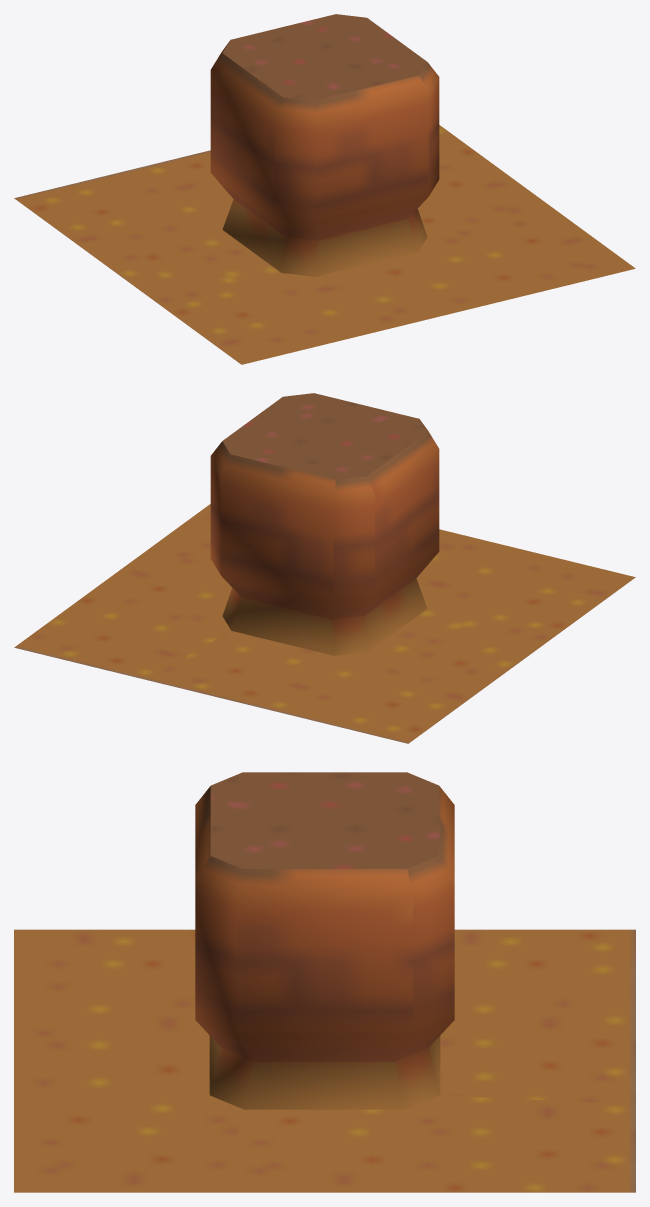
Rendered from canion_column_v01.fbx.
3 views of the same model, one above another, from view 1: azimuth 30°, elevation 25°; view 2: azimuth 150°, elevation 25°; view 3: azimuth 270°, elevation 25° (orthographic). The views are drawn at different scales.
Parts seen in each view (by area): view 1: canion_column_v01; view 2: canion_column_v01; view 3: canion_column_v01.
Boxes of the visible parts, x1=… form: canion_column_v01: x1=14, y1=14, x2=635, y2=364; canion_column_v01: x1=14, y1=393, x2=635, y2=743; canion_column_v01: x1=14, y1=772, x2=635, y2=1192.
Bounding box in the file's own units: 600 × 256 × 600.
